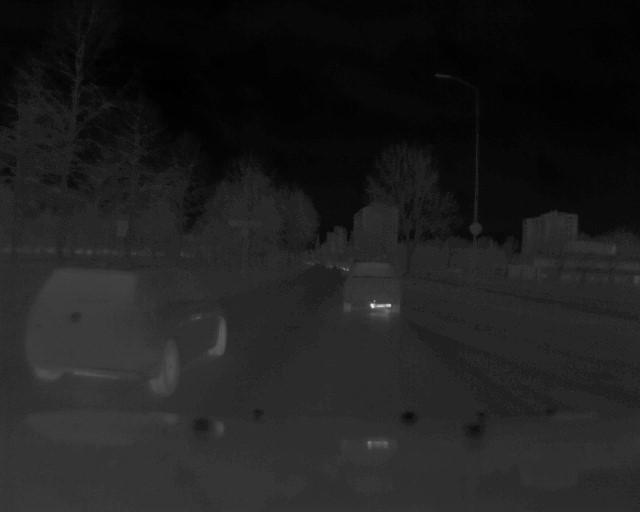car: (26, 257, 229, 398), (340, 256, 402, 312)
